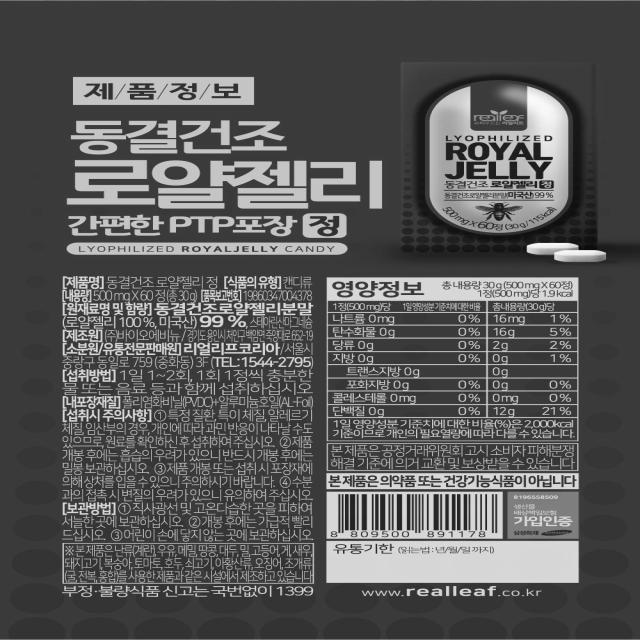Nutrition Label: (322, 271, 588, 447)
